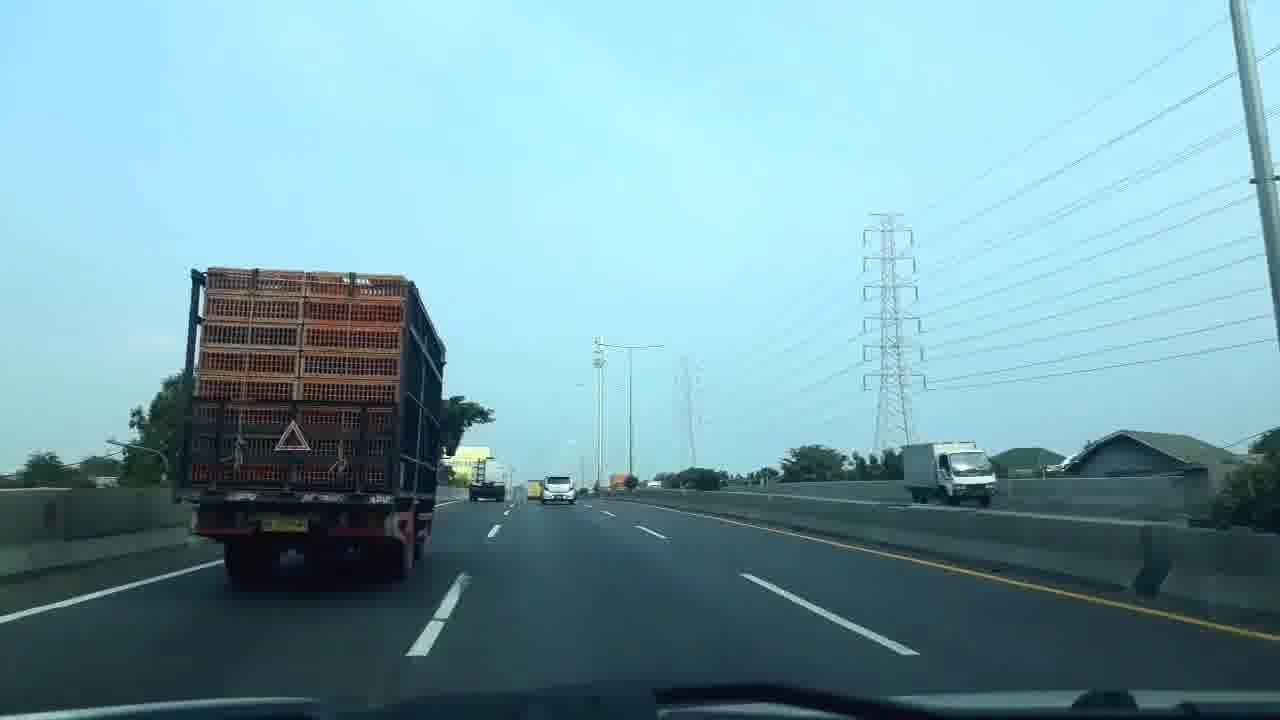plate_positive: (260, 518, 308, 533), (553, 495, 563, 500)
